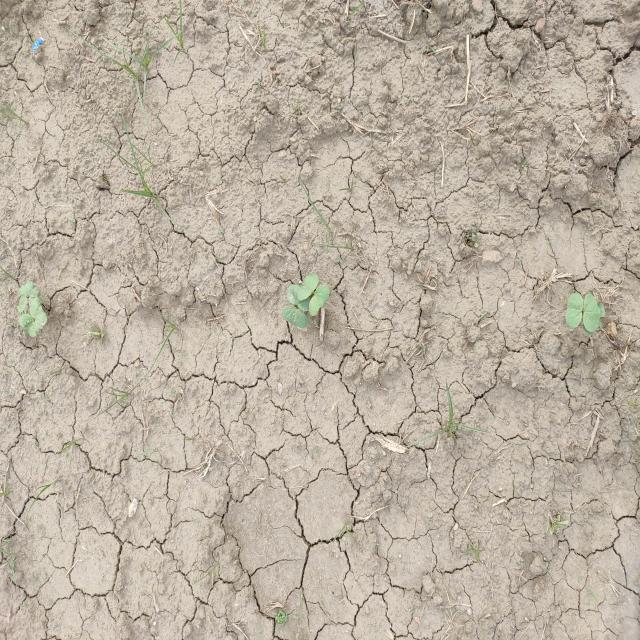seedling_s2: (309, 284, 330, 317), (287, 284, 311, 312), (583, 293, 600, 332), (566, 293, 584, 328), (296, 274, 319, 301), (282, 306, 308, 328), (29, 300, 47, 329), (20, 314, 39, 336), (25, 282, 41, 306), (18, 286, 27, 312)
